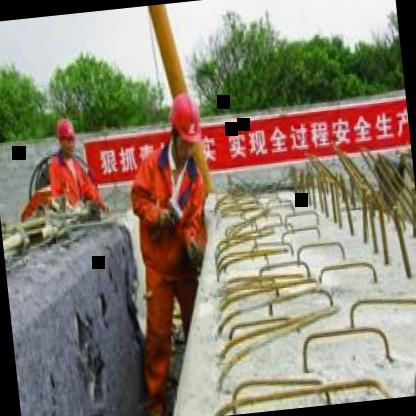helmet: (166, 92, 204, 167), (53, 116, 78, 156)
